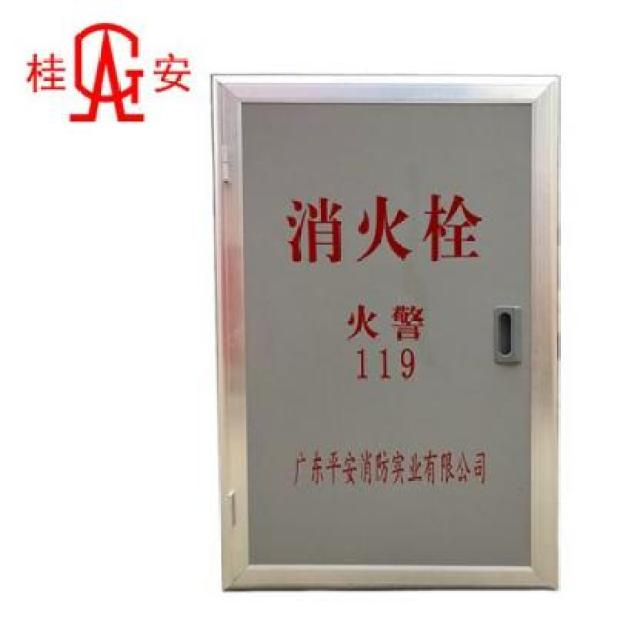firehydrant: (208, 70, 564, 598)
